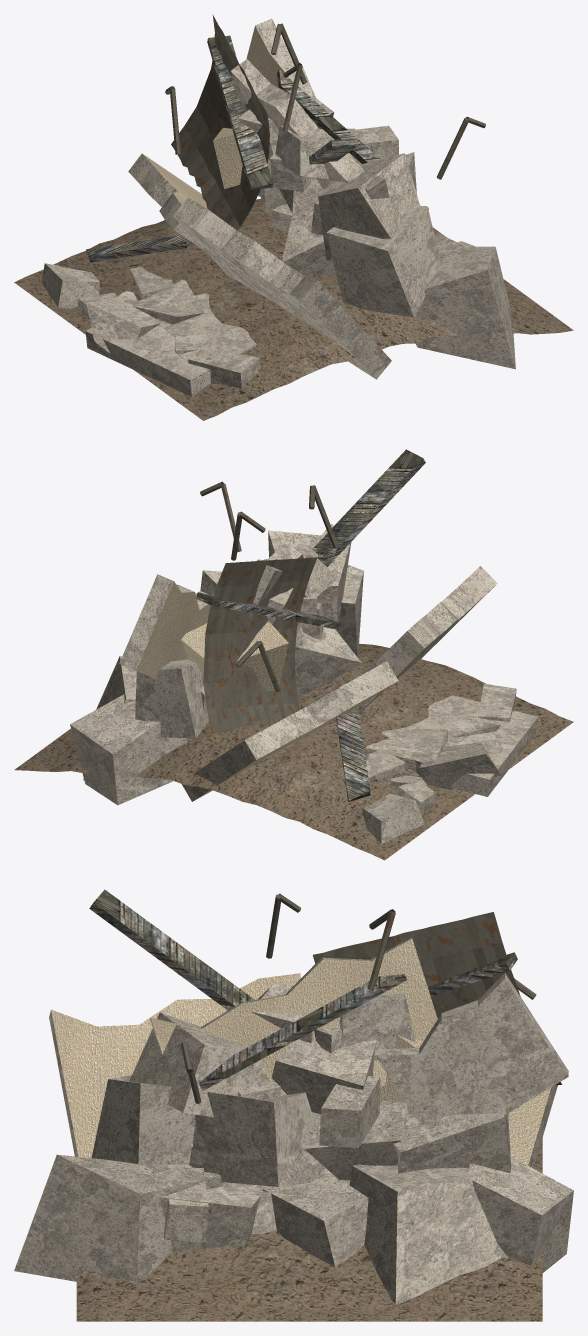
File: AlleyRubble.fbx
3 views of the same model, one above another, from view 1: azimuth 30°, elevation 25°; view 2: azimuth 150°, elevation 25°; view 3: azimuth 270°, elevation 25° (orthographic). The views are drawn at different scales.
Parts seen in each view (by area): view 1: AlleyRubble; view 2: AlleyRubble; view 3: AlleyRubble.
Boxes of the visible parts, x1=… form: AlleyRubble: x1=14, y1=14, x2=573, y2=420; AlleyRubble: x1=14, y1=449, x2=573, y2=860; AlleyRubble: x1=14, y1=889, x2=573, y2=1321.
Bounding box in the file's own units: 2.73 × 1.73 × 2.76.
